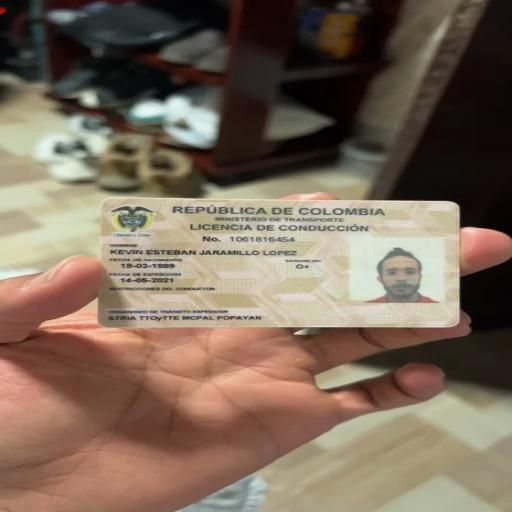colombia: (167, 202, 391, 218)
escudo de colombia: (104, 200, 161, 241)
fechaexpedicion: (112, 277, 197, 285)
fechanacimiento: (112, 260, 189, 275)
foto: (359, 240, 438, 301)
ministerio de transporte: (211, 215, 366, 223)
nombre: (101, 245, 304, 259)
tarjeta conduccion: (99, 194, 463, 330)
titulo licencia: (180, 221, 379, 233)
